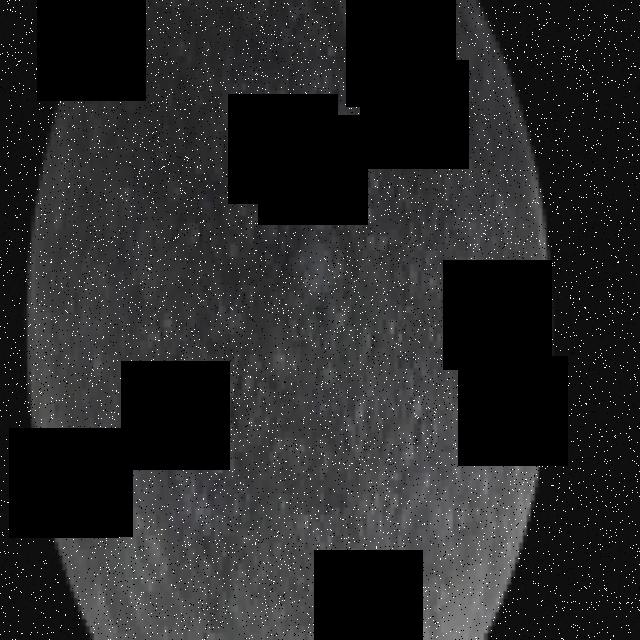Mercury: (23, 0, 550, 640)
